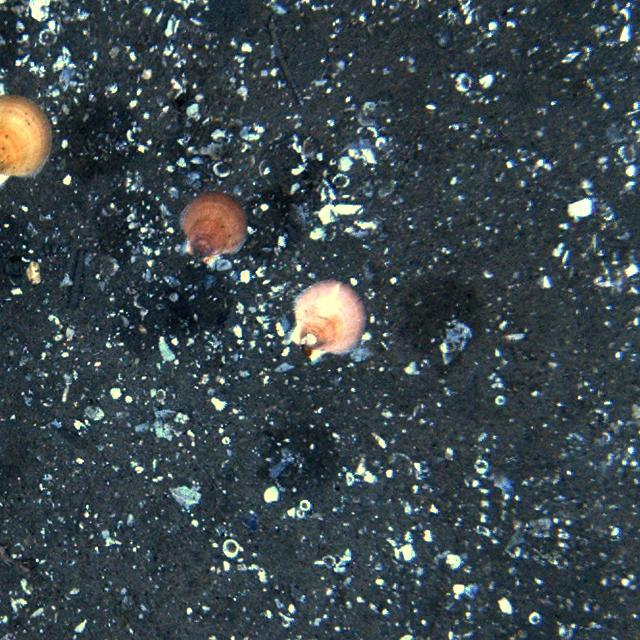scallop: (289, 276, 369, 362), (0, 94, 55, 188), (173, 194, 250, 260)
